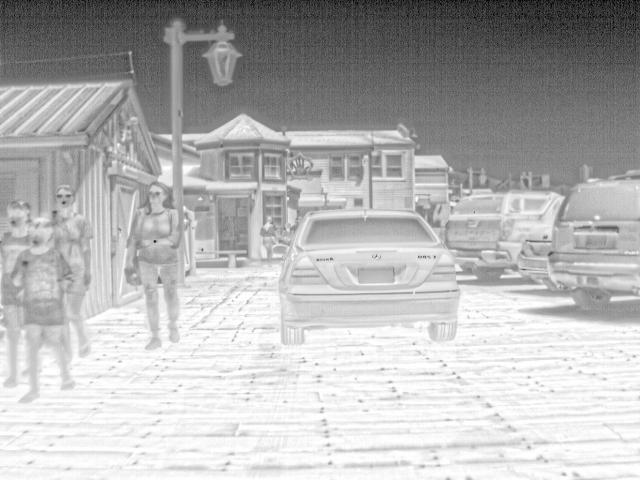car: (272, 207, 463, 346), (549, 170, 640, 310), (446, 190, 560, 282), (518, 234, 565, 294)
person: (17, 216, 77, 402), (126, 181, 186, 351), (48, 184, 95, 352), (2, 200, 32, 387), (260, 214, 277, 262)
